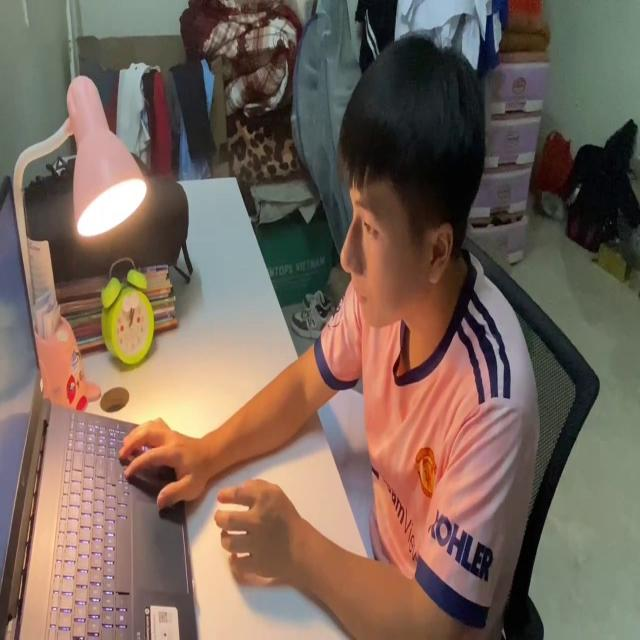book: (320, 378, 374, 560)
laptop: (1, 170, 201, 640)
student: (116, 17, 542, 640)
